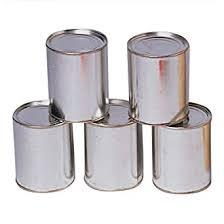Tin: (43, 23, 110, 129), (122, 26, 189, 125), (84, 92, 146, 193), (14, 101, 74, 194), (151, 105, 212, 193)
